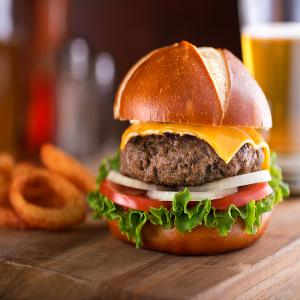cheeseburger: (99, 37, 283, 276)
